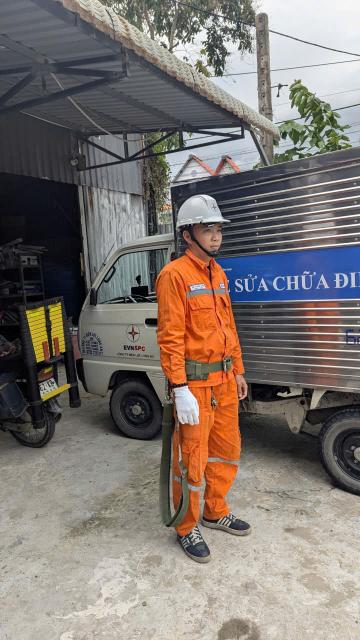gloves: (161, 378, 211, 428)
harness: (160, 348, 249, 383)
helmet: (163, 190, 232, 250)
shoes: (174, 515, 218, 571), (199, 498, 255, 540)
